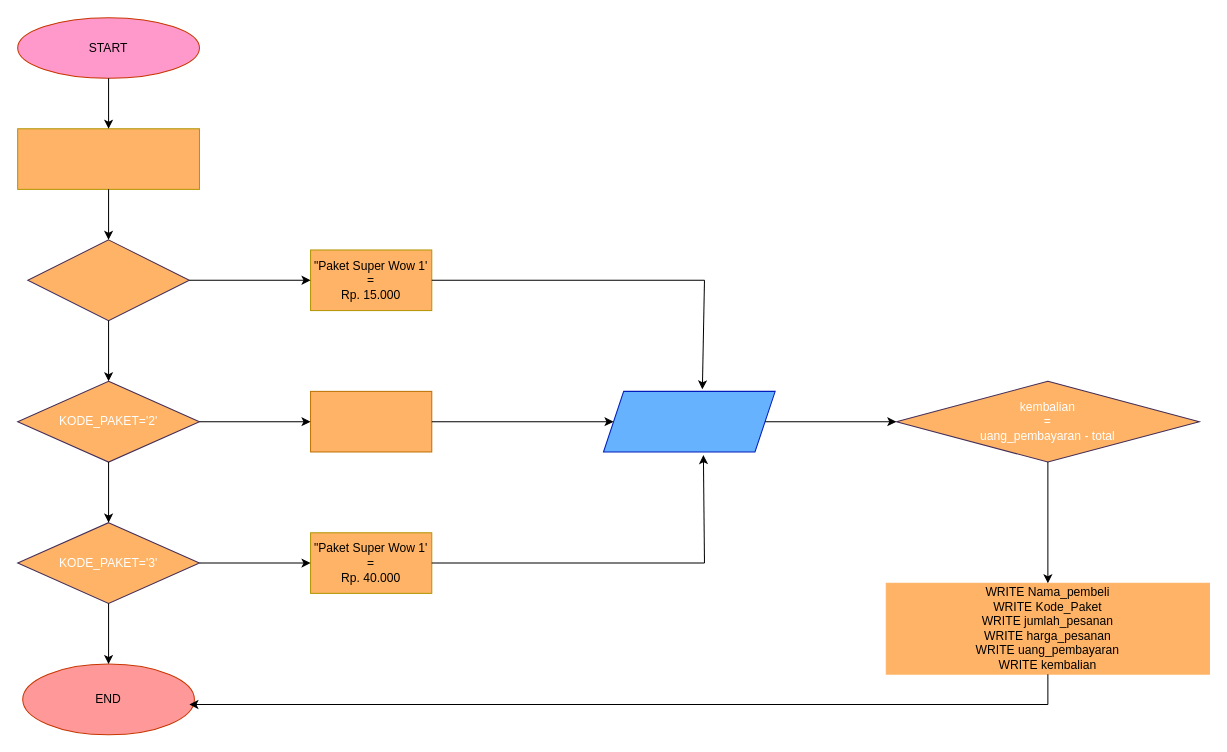
Image size: 1227x752. Some labels were removed from this diagram. Each missing label, with the box of its shape:
"Paket Super Wow 2' = Rp. 27.500: (310, 390, 432, 452)
KODE_PAKET='1'': (27, 239, 189, 321)
total = harga * jumlah: (17, 128, 199, 189)
WRITE 'Total' READ 'Bayar': (602, 390, 775, 452)
